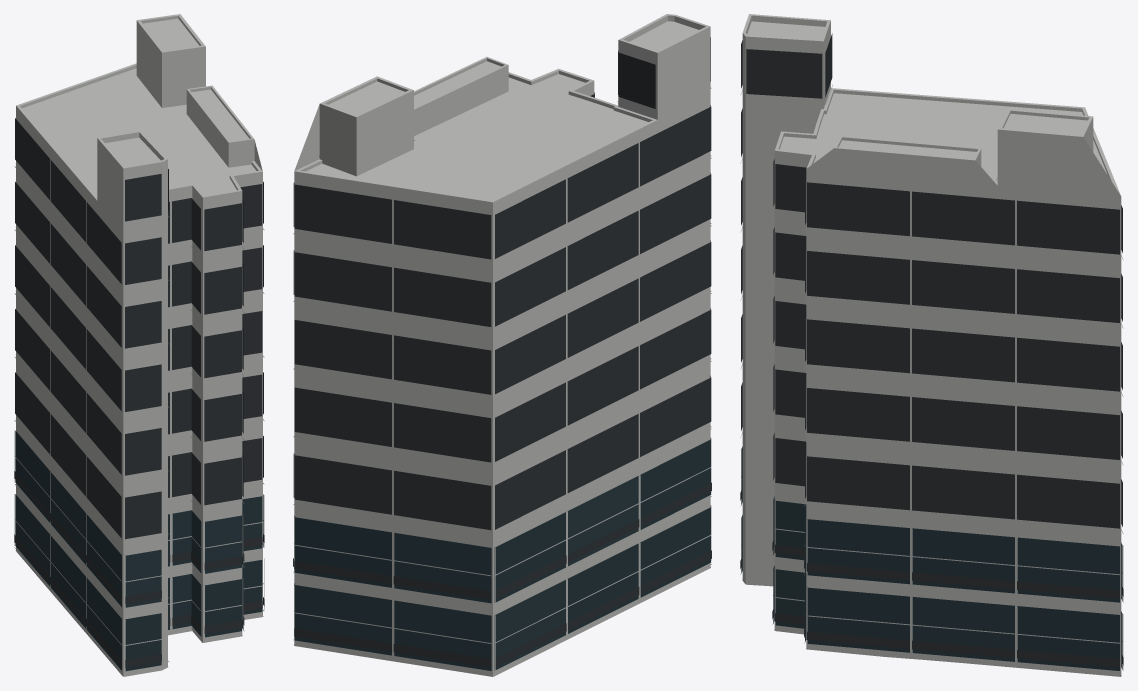
Rendered from bic-camera.glb.
The picture shows the model from 3 angles, left to right: view 1: azimuth 30°, elevation 25°; view 2: azimuth 150°, elevation 25°; view 3: azimuth 270°, elevation 25°; orthographic projection. The views are drawn at different scales.
Visible parts, largest first — view 1: bic-camera_sign_housing, bic-camera_wall, bic-camera_roof, bic-camera_glass0, bic-camera_glass2, bic-camera_glass1, bic-camera_spandrel, bic-camera_frame; view 2: bic-camera_sign_housing, bic-camera_wall, bic-camera_roof, bic-camera_glass0, bic-camera_glass2, bic-camera_spandrel, bic-camera_glass1, bic-camera_frame; view 3: bic-camera_sign_housing, bic-camera_wall, bic-camera_roof, bic-camera_glass2, bic-camera_glass1, bic-camera_glass0, bic-camera_spandrel, bic-camera_frame.
Boxes of the visible parts, x1,y1,x2,y2 form: bic-camera_sign_housing: (14, 118, 264, 667); bic-camera_wall: (15, 16, 263, 676); bic-camera_roof: (16, 14, 262, 200); bic-camera_glass0: (15, 430, 262, 671); bic-camera_glass2: (51, 472, 243, 636); bic-camera_glass1: (15, 494, 263, 629); bic-camera_spandrel: (14, 98, 264, 673); bic-camera_frame: (14, 430, 264, 671); bic-camera_sign_housing: (293, 37, 711, 667); bic-camera_wall: (294, 15, 710, 676); bic-camera_roof: (295, 14, 710, 202); bic-camera_glass0: (295, 439, 710, 633); bic-camera_glass2: (294, 476, 638, 670); bic-camera_spandrel: (293, 88, 711, 672); bic-camera_glass1: (294, 580, 565, 670); bic-camera_frame: (293, 438, 711, 670); bic-camera_sign_housing: (740, 33, 1123, 667); bic-camera_wall: (742, 15, 1121, 676); bic-camera_roof: (742, 14, 1120, 195); bic-camera_glass2: (741, 446, 1122, 669); bic-camera_glass1: (775, 500, 1119, 670); bic-camera_glass0: (741, 515, 1122, 652); bic-camera_spandrel: (740, 84, 1123, 673); bic-camera_frame: (741, 476, 1123, 669).
Size of the model in its own units: 14.83 by 32.52 by 20.59.
